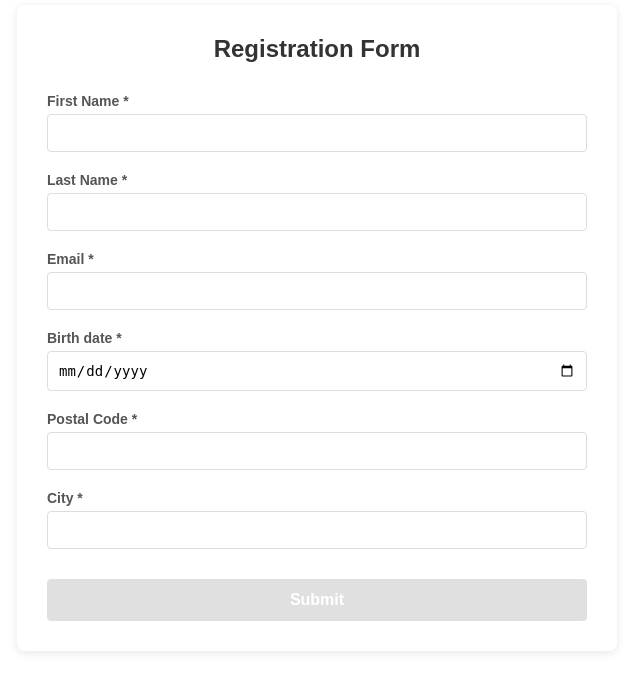
Test: UserForm - Integration Tests › should validate in real-time after field has been touched
Type "A" into the field labelled "First Name *" at (317, 133), box [47,114,587,152]
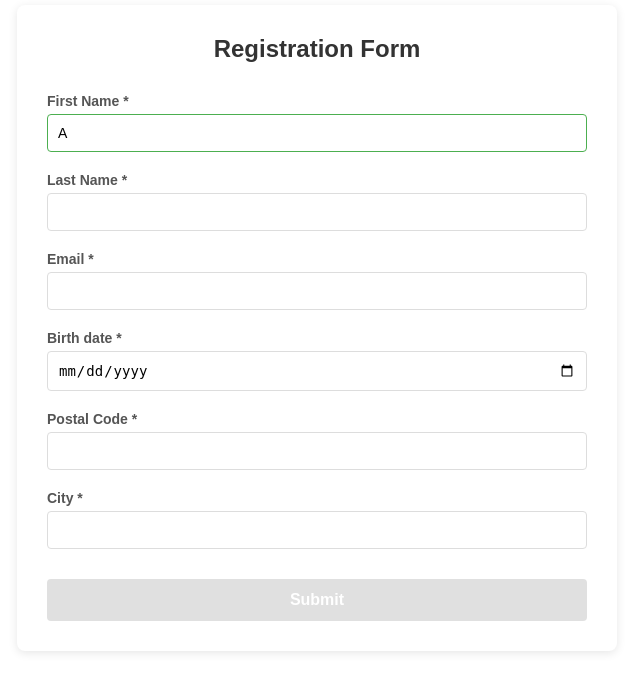
Press Tab
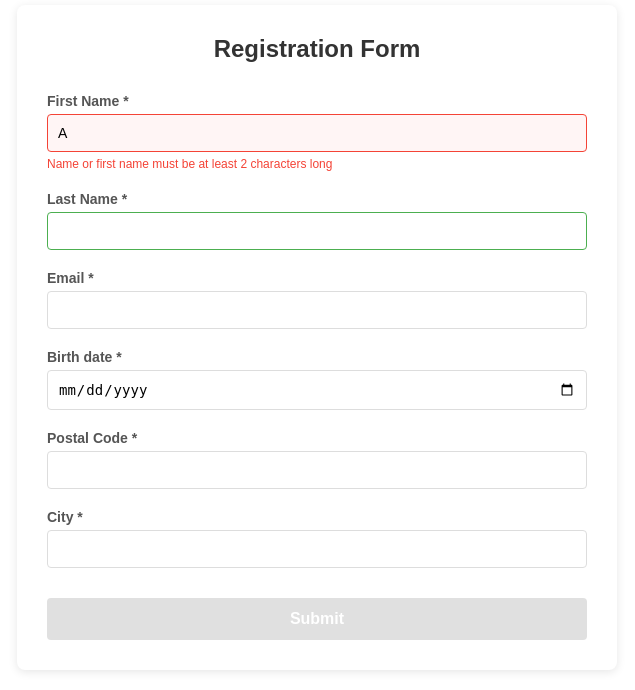
Check: the text "Name or first name must be at least 2 characters long" is shown, box [47,157,332,171]
Type "nne" into the field labelled "First Name *" at (317, 133), box [47,114,587,152]
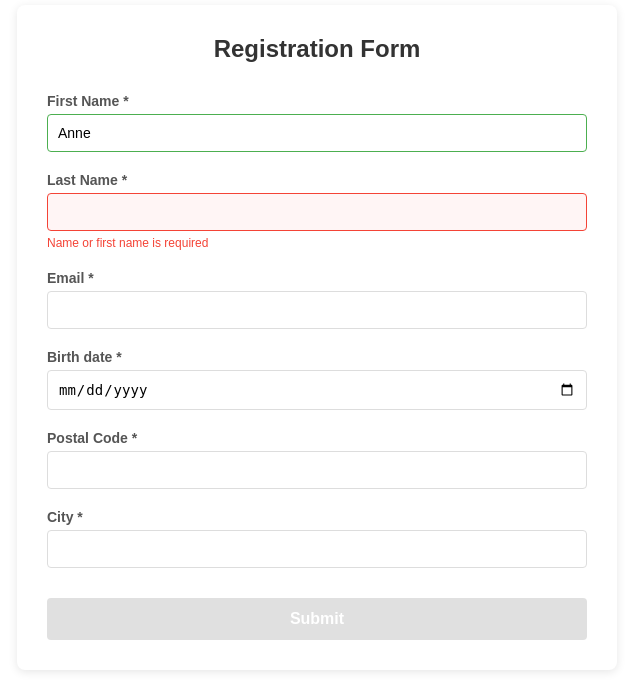
Check: the text "must be at least 2 characters long" is gone
Check: the field labelled "First Name *" holds "Anne", box [47,114,587,152]
